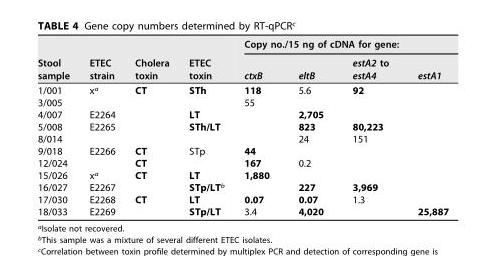table: (36, 37, 448, 216)
table column: (337, 37, 402, 216), (178, 37, 233, 216), (124, 37, 178, 216), (283, 37, 337, 216), (233, 37, 283, 216), (78, 37, 124, 216), (402, 37, 448, 216), (36, 37, 78, 216)
table column header: (36, 37, 448, 82)
table row: (36, 52, 448, 82), (36, 37, 448, 52), (36, 82, 448, 95), (36, 107, 448, 120), (36, 95, 448, 107), (36, 120, 448, 132), (36, 132, 448, 144), (36, 144, 448, 156), (36, 156, 448, 168), (36, 168, 448, 180), (36, 180, 448, 192), (36, 192, 448, 204), (36, 204, 448, 216)
table spanning cell: (233, 37, 448, 52), (178, 37, 233, 82), (124, 37, 178, 82), (78, 37, 124, 82), (36, 37, 78, 82)
